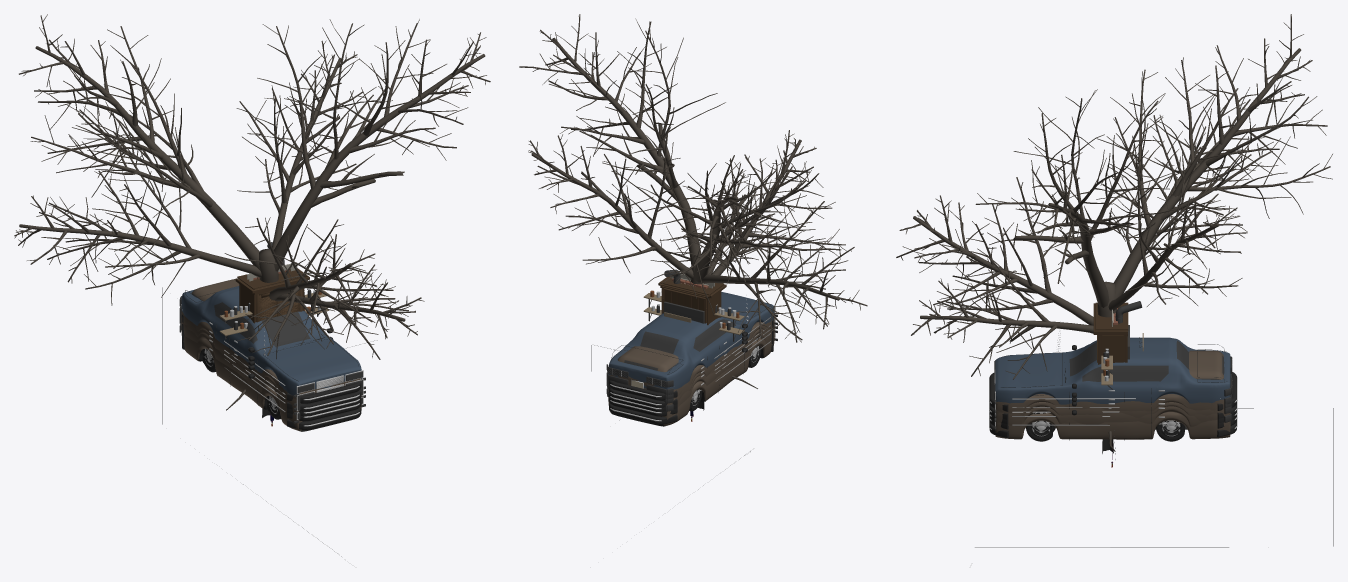
File: props_m2.glb
The picture shows the model from 3 angles, left to right: view 1: azimuth 30°, elevation 25°; view 2: azimuth 150°, elevation 25°; view 3: azimuth 270°, elevation 25°; orthographic projection. The views are drawn at different scales.
Parts seen in each view (by area): view 1: P_TREE_3-dead_tree, P_CAR_ROW-sedan-body, P_WRECK_9-sedan-body, P_CAR_ROW-sedan, P_ADA_WARDROBE-slatted_cabinet, P_WRECK_1-sedan, P_WRECK_5-sedan-body, P_WRECK_9-sedan, P_CAN_SHELF-can_shelf; view 2: P_TREE_3-dead_tree, P_CAR_ROW-sedan-body, P_WRECK_9-sedan-body, P_WRECK_5-sedan-body, P_ADA_WARDROBE-slatted_cabinet, P_CAN_SHELF-can_shelf, P_COAT_WARDROBE-slatted_cabinet, P_CAR_ROW-sedan, P_WRECK_9-sedan, P_WRECK_1-sedan, P_STOVE-iron_stove, P_WRECK_3-sedan (+1 smaller); view 3: P_TREE_3-dead_tree, P_CAR_ROW-sedan-body, P_WRECK_9-sedan-body, P_ADA_WARDROBE-slatted_cabinet, P_WRECK_5-sedan-body, P_CAR_ROW-sedan, P_WRECK_1-sedan-body, P_WRECK_7-sedan-body, P_WRECK_3-sedan-body, P_WRECK_3-sedan, P_WRECK_6-sedan-body, P_WRECK_9-sedan (+2 smaller).
Part boxes in pixels (<box>): P_TREE_3-dead_tree: <box>14,14,490,410</box>; P_CAR_ROW-sedan-body: <box>181,286,361,395</box>; P_WRECK_9-sedan-body: <box>181,332,361,431</box>; P_CAR_ROW-sedan: <box>182,292,361,403</box>; P_ADA_WARDROBE-slatted_cabinet: <box>235,268,309,323</box>; P_WRECK_1-sedan: <box>182,324,361,411</box>; P_WRECK_5-sedan-body: <box>181,278,296,406</box>; P_WRECK_9-sedan: <box>182,339,361,429</box>; P_CAN_SHELF-can_shelf: <box>219,288,329,339</box>; P_TREE_3-dead_tree: <box>519,14,867,388</box>; P_CAR_ROW-sedan-body: <box>608,292,774,389</box>; P_WRECK_9-sedan-body: <box>608,333,774,426</box>; P_WRECK_5-sedan-body: <box>617,320,774,405</box>; P_ADA_WARDROBE-slatted_cabinet: <box>658,277,726,325</box>; P_CAN_SHELF-can_shelf: <box>643,290,744,341</box>; P_COAT_WARDROBE-slatted_cabinet: <box>660,284,721,323</box>; P_CAR_ROW-sedan: <box>609,295,773,400</box>; P_WRECK_9-sedan: <box>609,319,773,424</box>; P_WRECK_1-sedan: <box>609,303,773,407</box>; P_STOVE-iron_stove: <box>663,269,704,323</box>; P_WRECK_3-sedan: <box>609,338,764,415</box>; P_TREE_3-dead_tree: <box>896,14,1332,451</box>; P_CAR_ROW-sedan-body: <box>995,337,1230,404</box>; P_WRECK_9-sedan-body: <box>995,412,1230,439</box>; P_ADA_WARDROBE-slatted_cabinet: <box>1093,302,1128,364</box>; P_WRECK_5-sedan-body: <box>1008,350,1224,415</box>; P_CAR_ROW-sedan: <box>989,321,1237,422</box>; P_WRECK_1-sedan-body: <box>996,394,1211,413</box>; P_WRECK_7-sedan-body: <box>1023,395,1224,411</box>; P_WRECK_3-sedan-body: <box>995,406,1200,428</box>; P_WRECK_3-sedan: <box>1026,401,1237,441</box>; P_WRECK_6-sedan-body: <box>996,406,1209,426</box>; P_WRECK_9-sedan: <box>989,348,1237,440</box>.
Size of what is drawn, in the model's own units: 9.96 by 11.34 by 9.02.
